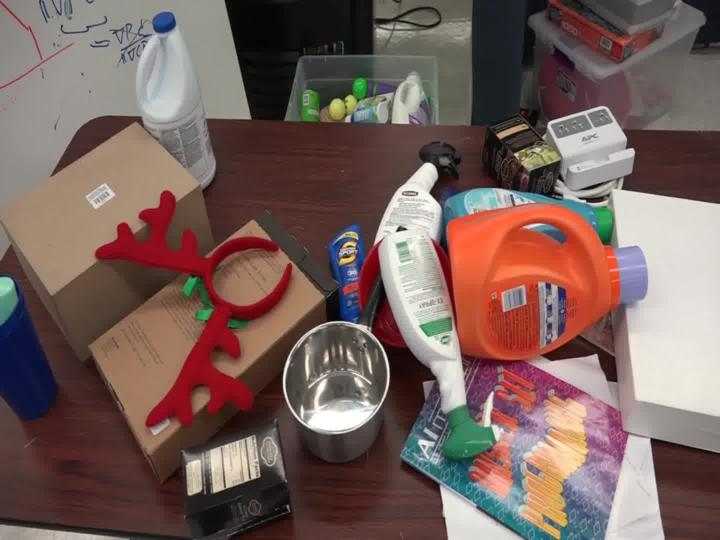downy: (423, 172, 622, 264)
